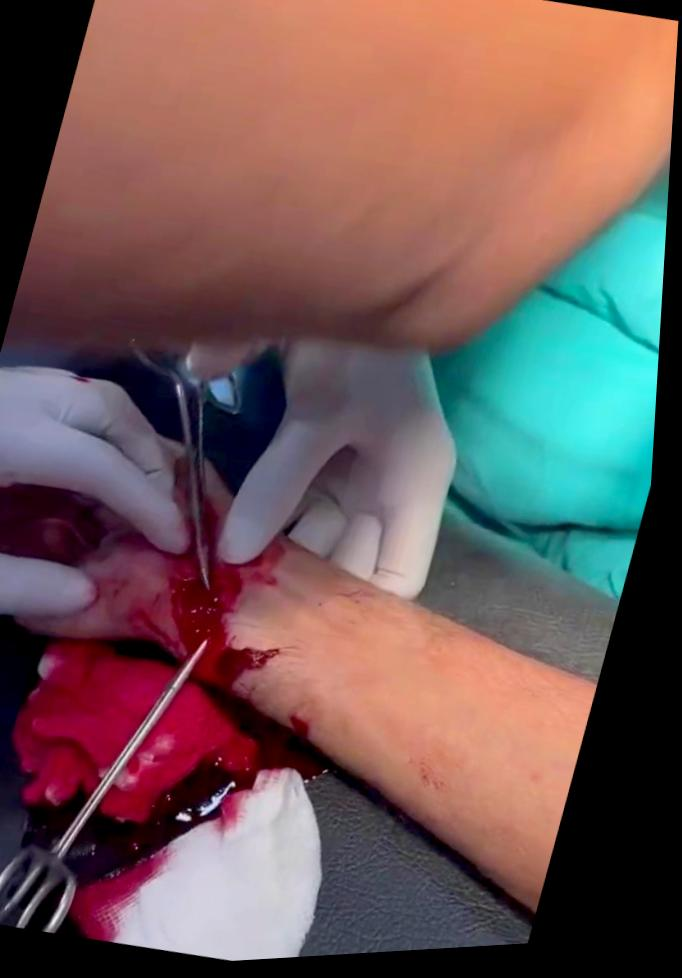Fire: (74, 684, 335, 945), (21, 641, 183, 852), (82, 538, 287, 692)
